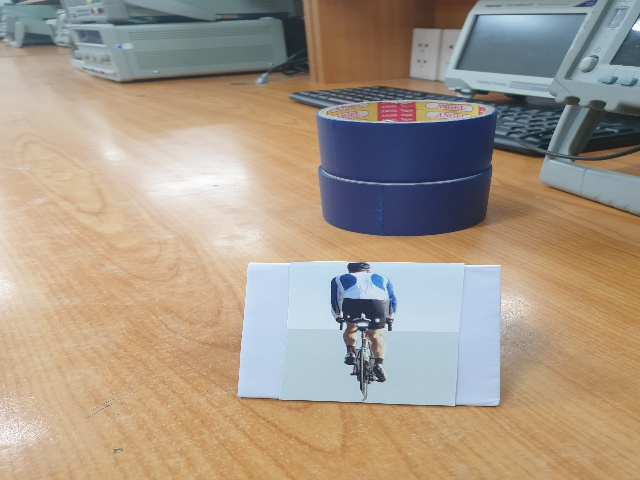Cyclist: (327, 264, 400, 400)
